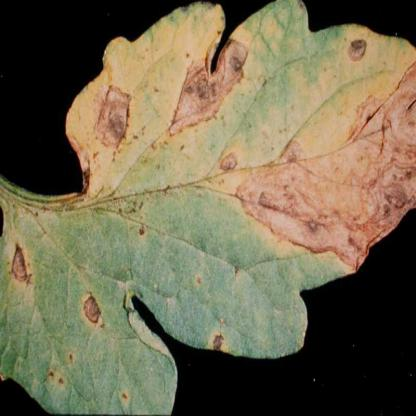potato leaf early blight: (2, 1, 415, 404)
